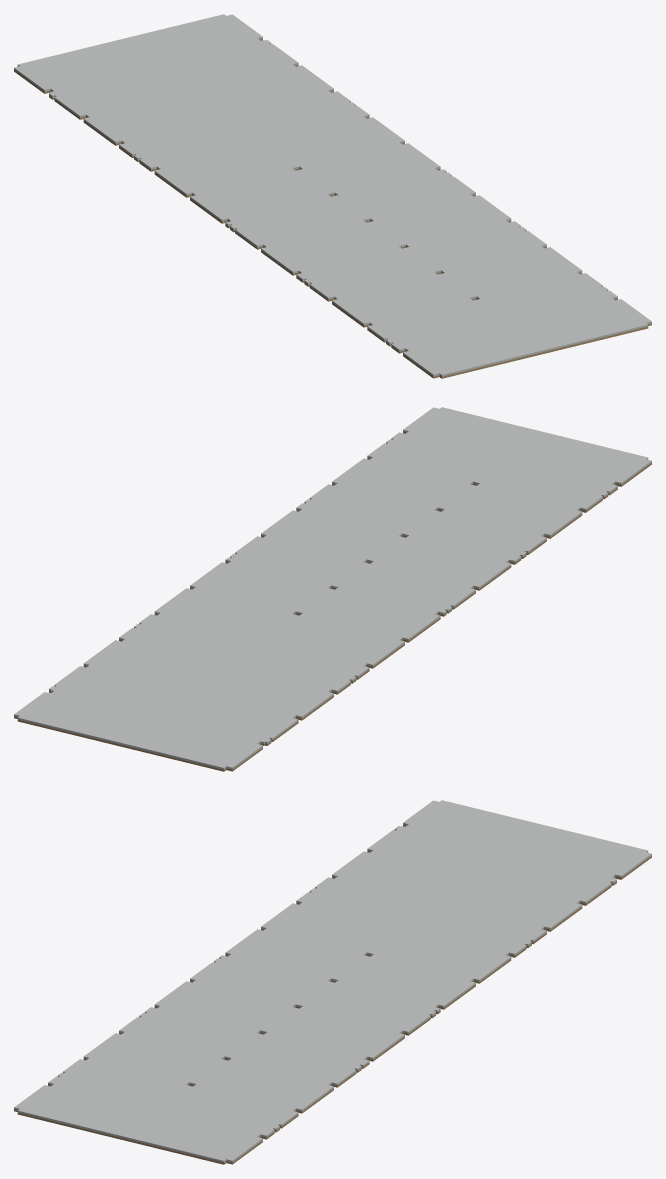
Rendered from lantai.glb.
3 renders of one model, top to bottom at view 1: azimuth 30°, elevation 25°; view 2: azimuth 150°, elevation 25°; view 3: azimuth 330°, elevation 25°, orthographic.
Parts seen in each view (by area): view 1: lantai; view 2: lantai; view 3: lantai.
Part boxes in pixels (x1,y1,x2,y2): lantai: (14,14,651,378); lantai: (14,407,651,771); lantai: (14,800,651,1164).
Size of the model in its own units: 17.78 by 0.3 by 59.78.
